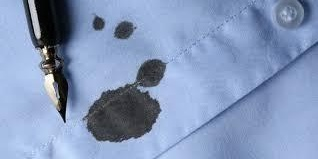ink: (85, 88, 159, 142), (137, 59, 165, 86), (115, 22, 135, 39), (92, 17, 104, 31)
